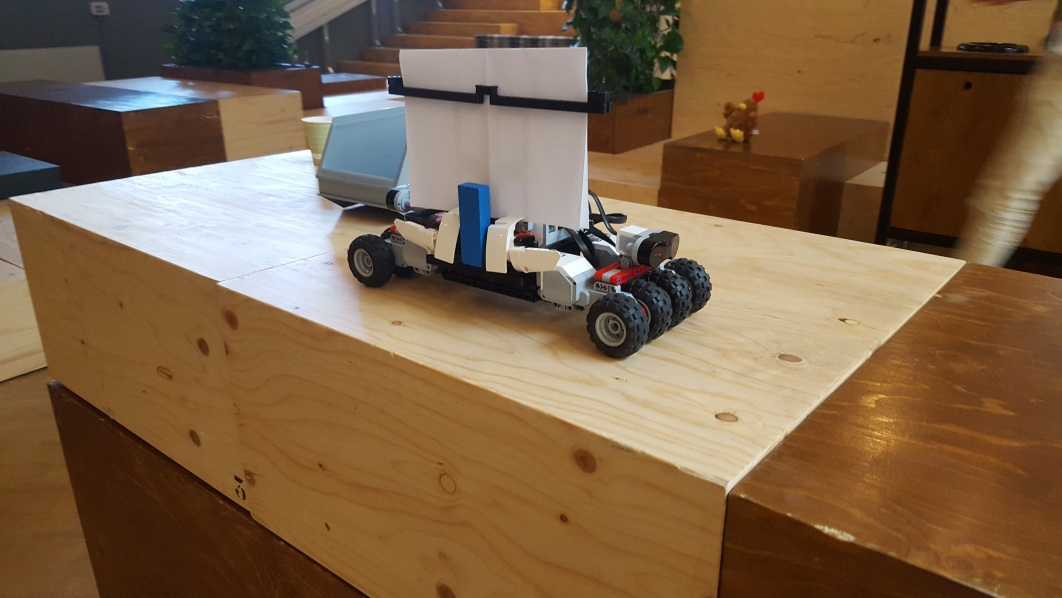car: (348, 48, 713, 357)
chicken: (711, 91, 765, 142)
cup: (300, 115, 330, 164)
tray: (317, 103, 410, 213)
